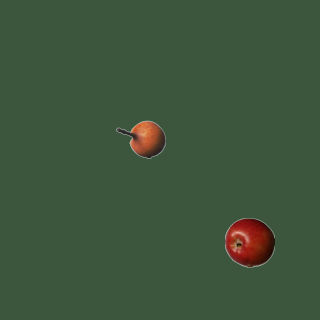Apple Braeburn: (224, 217, 274, 267)
Granadilla: (115, 114, 165, 164)
